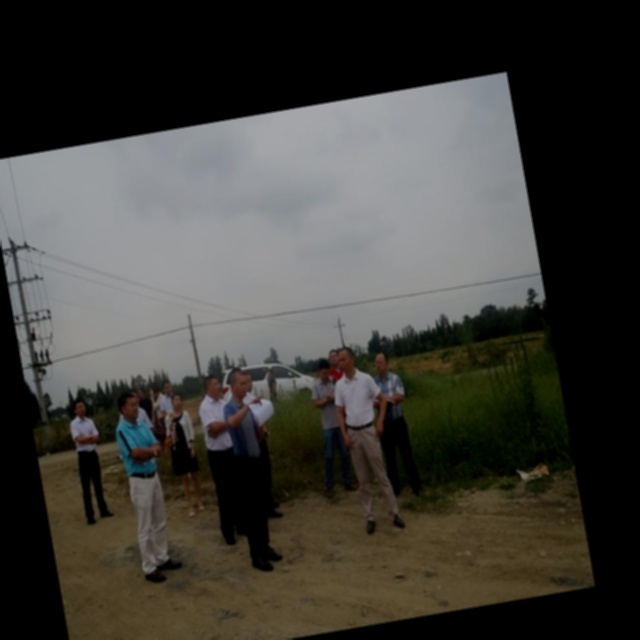Sin_Casco_Mascarrilla: (203, 374, 223, 401), (373, 351, 390, 377), (72, 399, 87, 418)
Sin_Chaleco: (114, 418, 159, 478), (335, 369, 377, 431)
